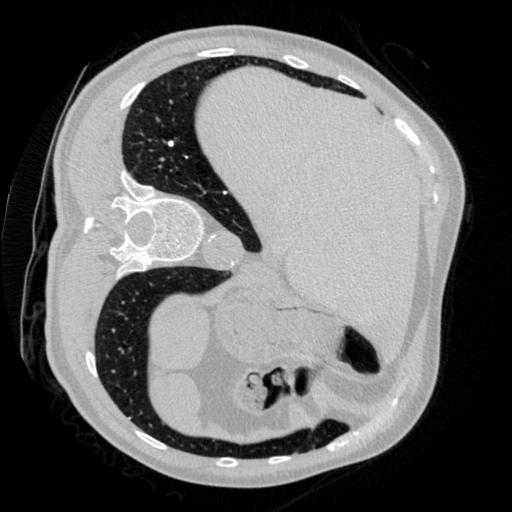nodule: (165, 136, 178, 149)
